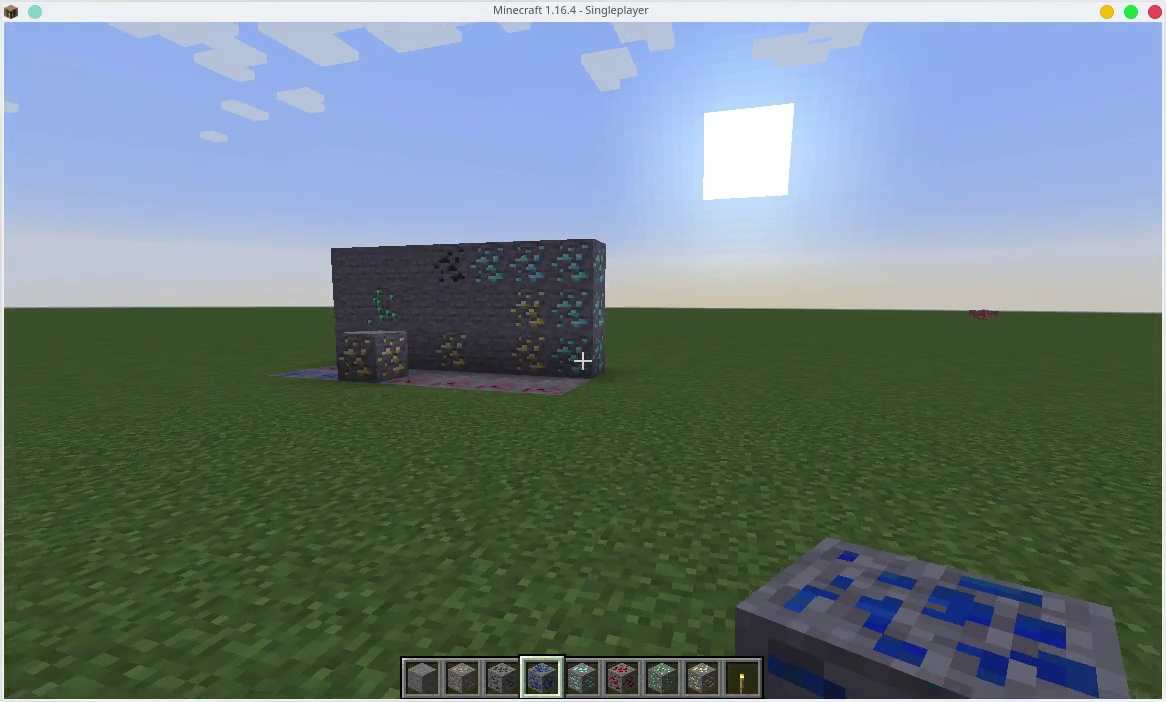gold: (342, 327, 407, 376), (508, 289, 557, 333), (431, 324, 473, 369), (510, 332, 545, 371), (686, 663, 720, 697)
